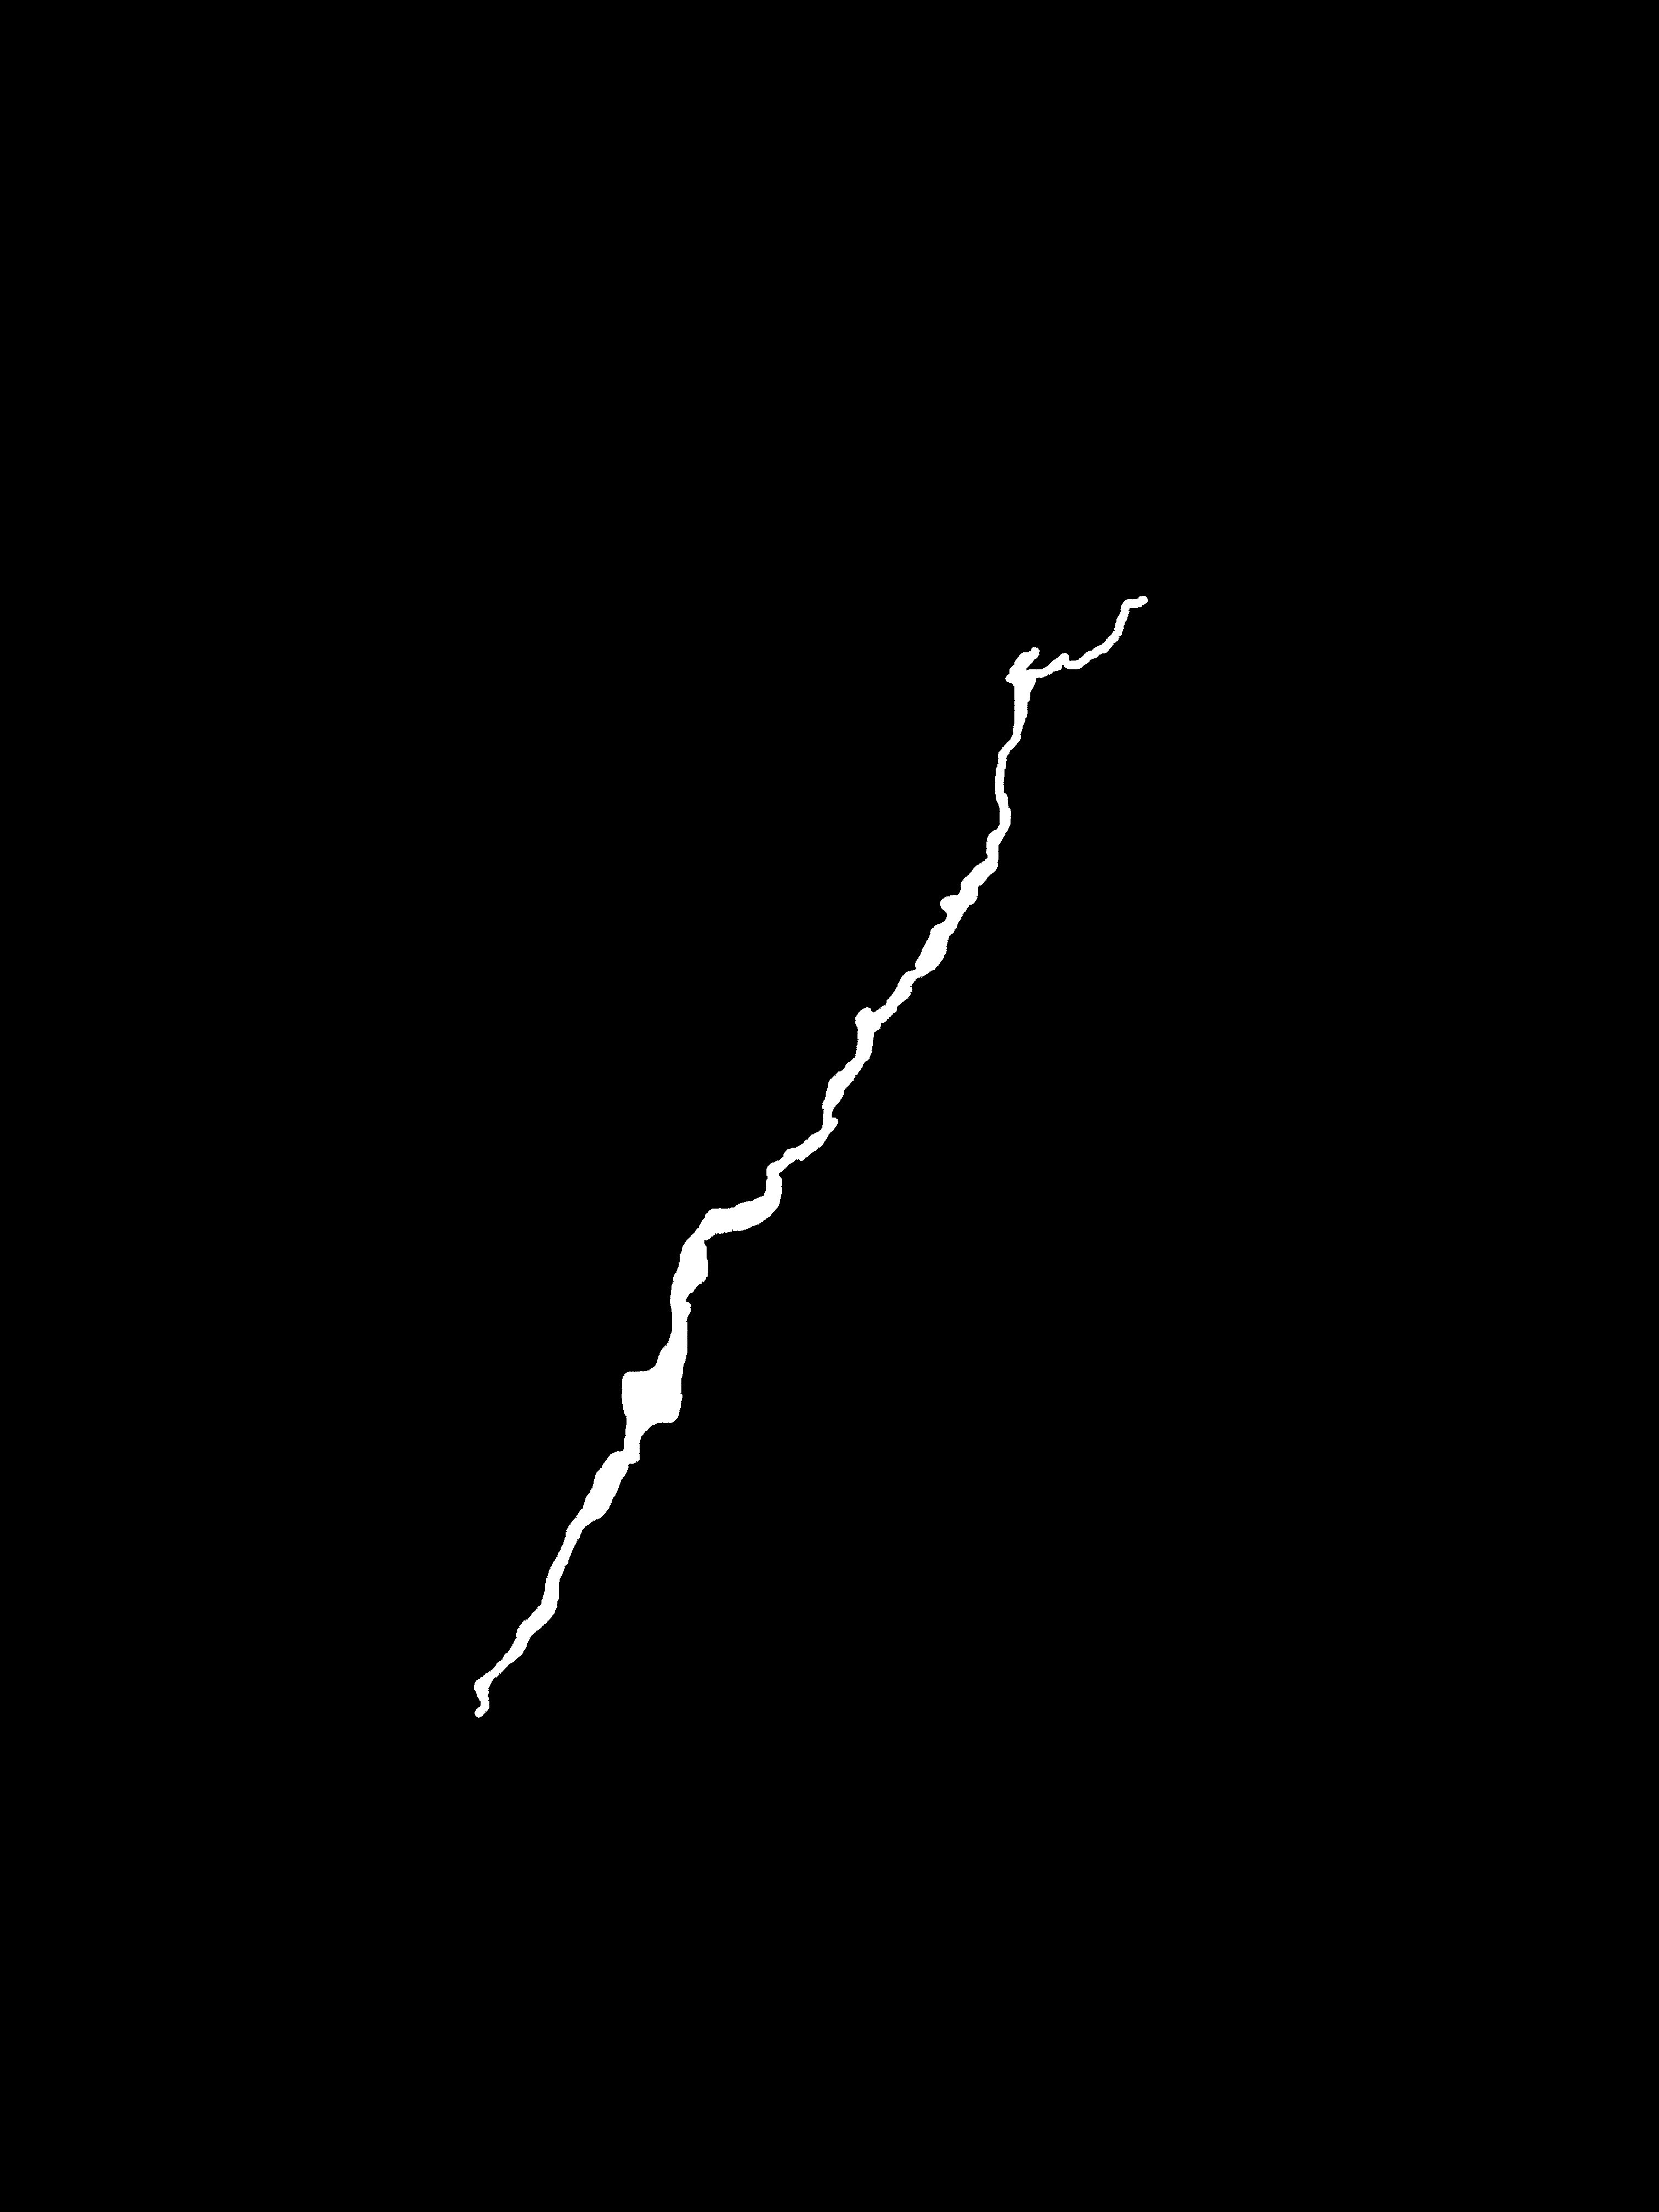Crack: (408, 545, 1201, 1804)
